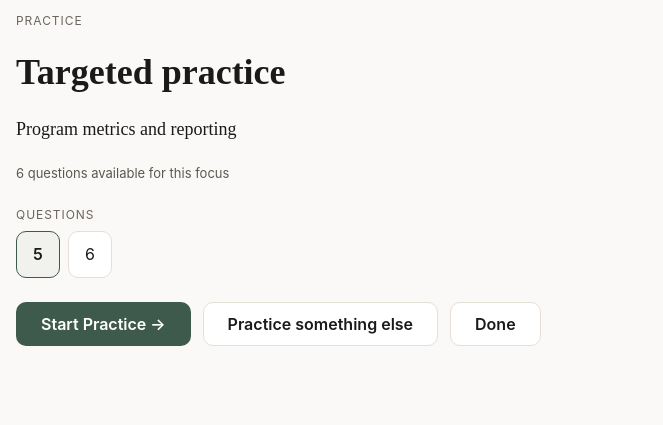
Test: PracticeScreen — targeted entry (concept/family/pattern/qualifier/... scope) › 'Practice something else' returns to the ordinary scope/count landing
This screenshot has width=663, height=425.
Click the button "Practice something else": (320, 324) [203,302,438,346]
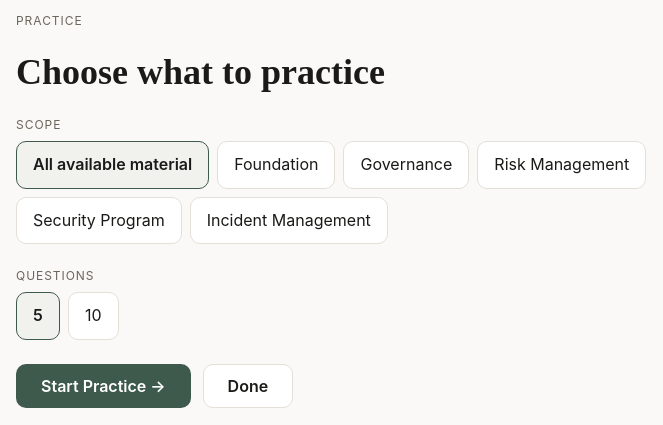
Check: the heading "Choose what to practice" is shown, box [16,52,385,92]
Check: the radio button labelled "All available material" is shown, box [16,141,209,189]
